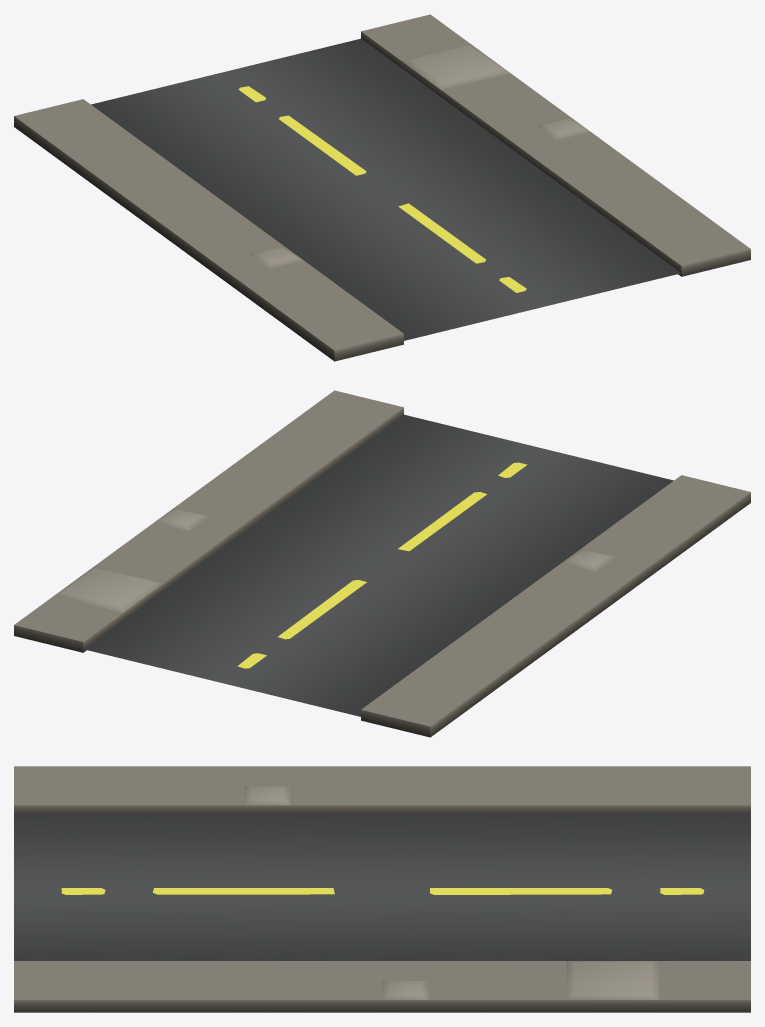
File: Road_1A_+4.fbx
The picture shows the model from 3 angles, top to bottom: view 1: azimuth 30°, elevation 25°; view 2: azimuth 150°, elevation 25°; view 3: azimuth 270°, elevation 25°; orthographic projection. The views are drawn at different scales.
Parts seen in each view (by area): view 1: Road_1A_+4; view 2: Road_1A_+4; view 3: Road_1A_+4.
Part boxes in pixels (x1,y1,x2,y2): Road_1A_+4: (14,14,750,361); Road_1A_+4: (14,390,750,737); Road_1A_+4: (14,766,750,1012).
Bounding box in the file's own units: 12 × 0.3565 × 16.
